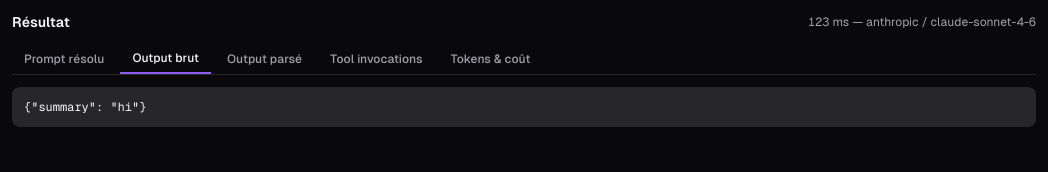
Test: OutputInspector › surfaces review keys the dedicated view does not render instead of hiding them (P-06)
Click the tab with test id "playground-tab-parsed": coordinates (264, 59) x1=215 y1=44 x2=314 y2=74
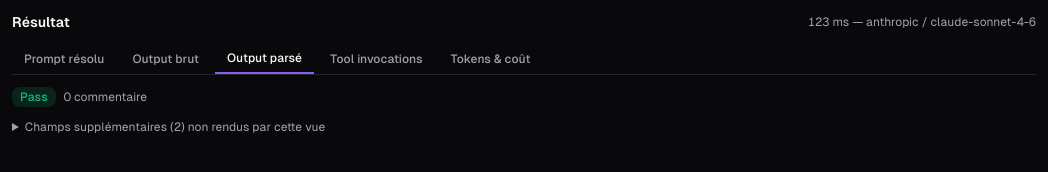
Expected: the element with test id "controller-review-view" is shown, x1=12 y1=87 x2=325 y2=134
